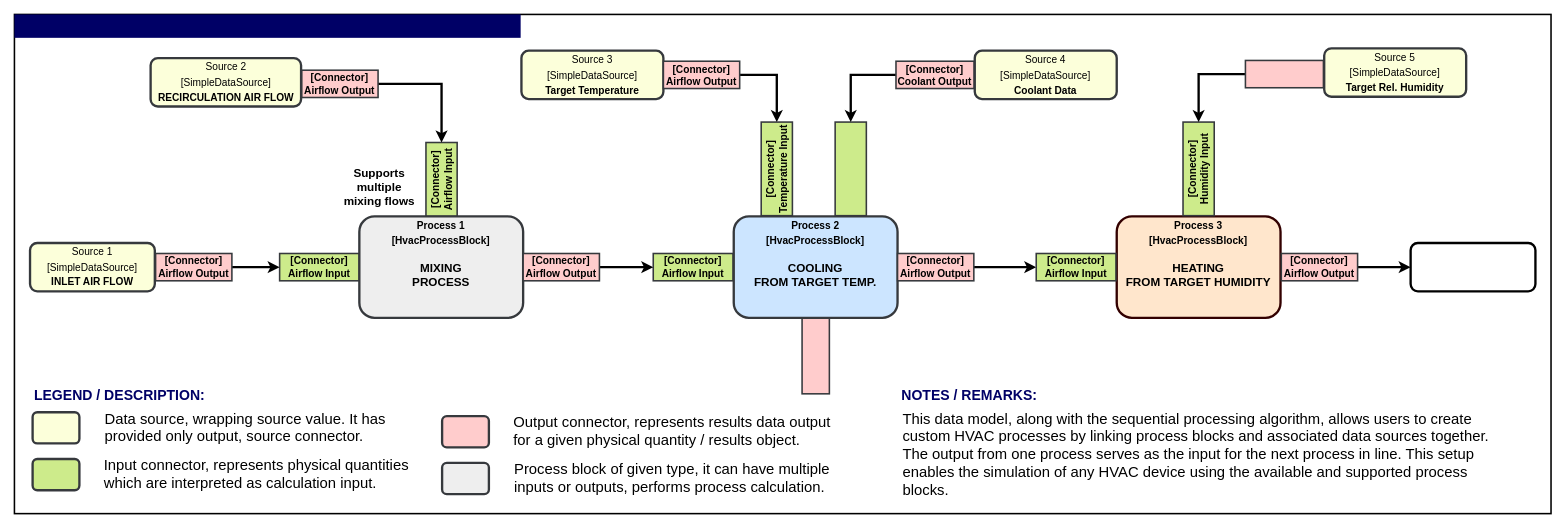
This 1565x527 diagram has some shape labels left out. Each missing label, with the centre of its shape:
"[Connector] Condensate" goes at point 815,355.
"[Connector] Coolant data Input" goes at point 850,168.
"[Connector] RH Output" goes at point 1284,73.
"ADVANCED HVAC SEQUENTIAL PROCESING ALGORITHM DIAGRAM" goes at point 267,25.
"RESULTS" goes at point 1472,266.
